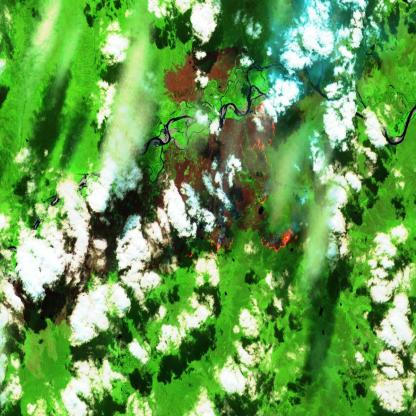fire: (144, 104, 300, 267)
